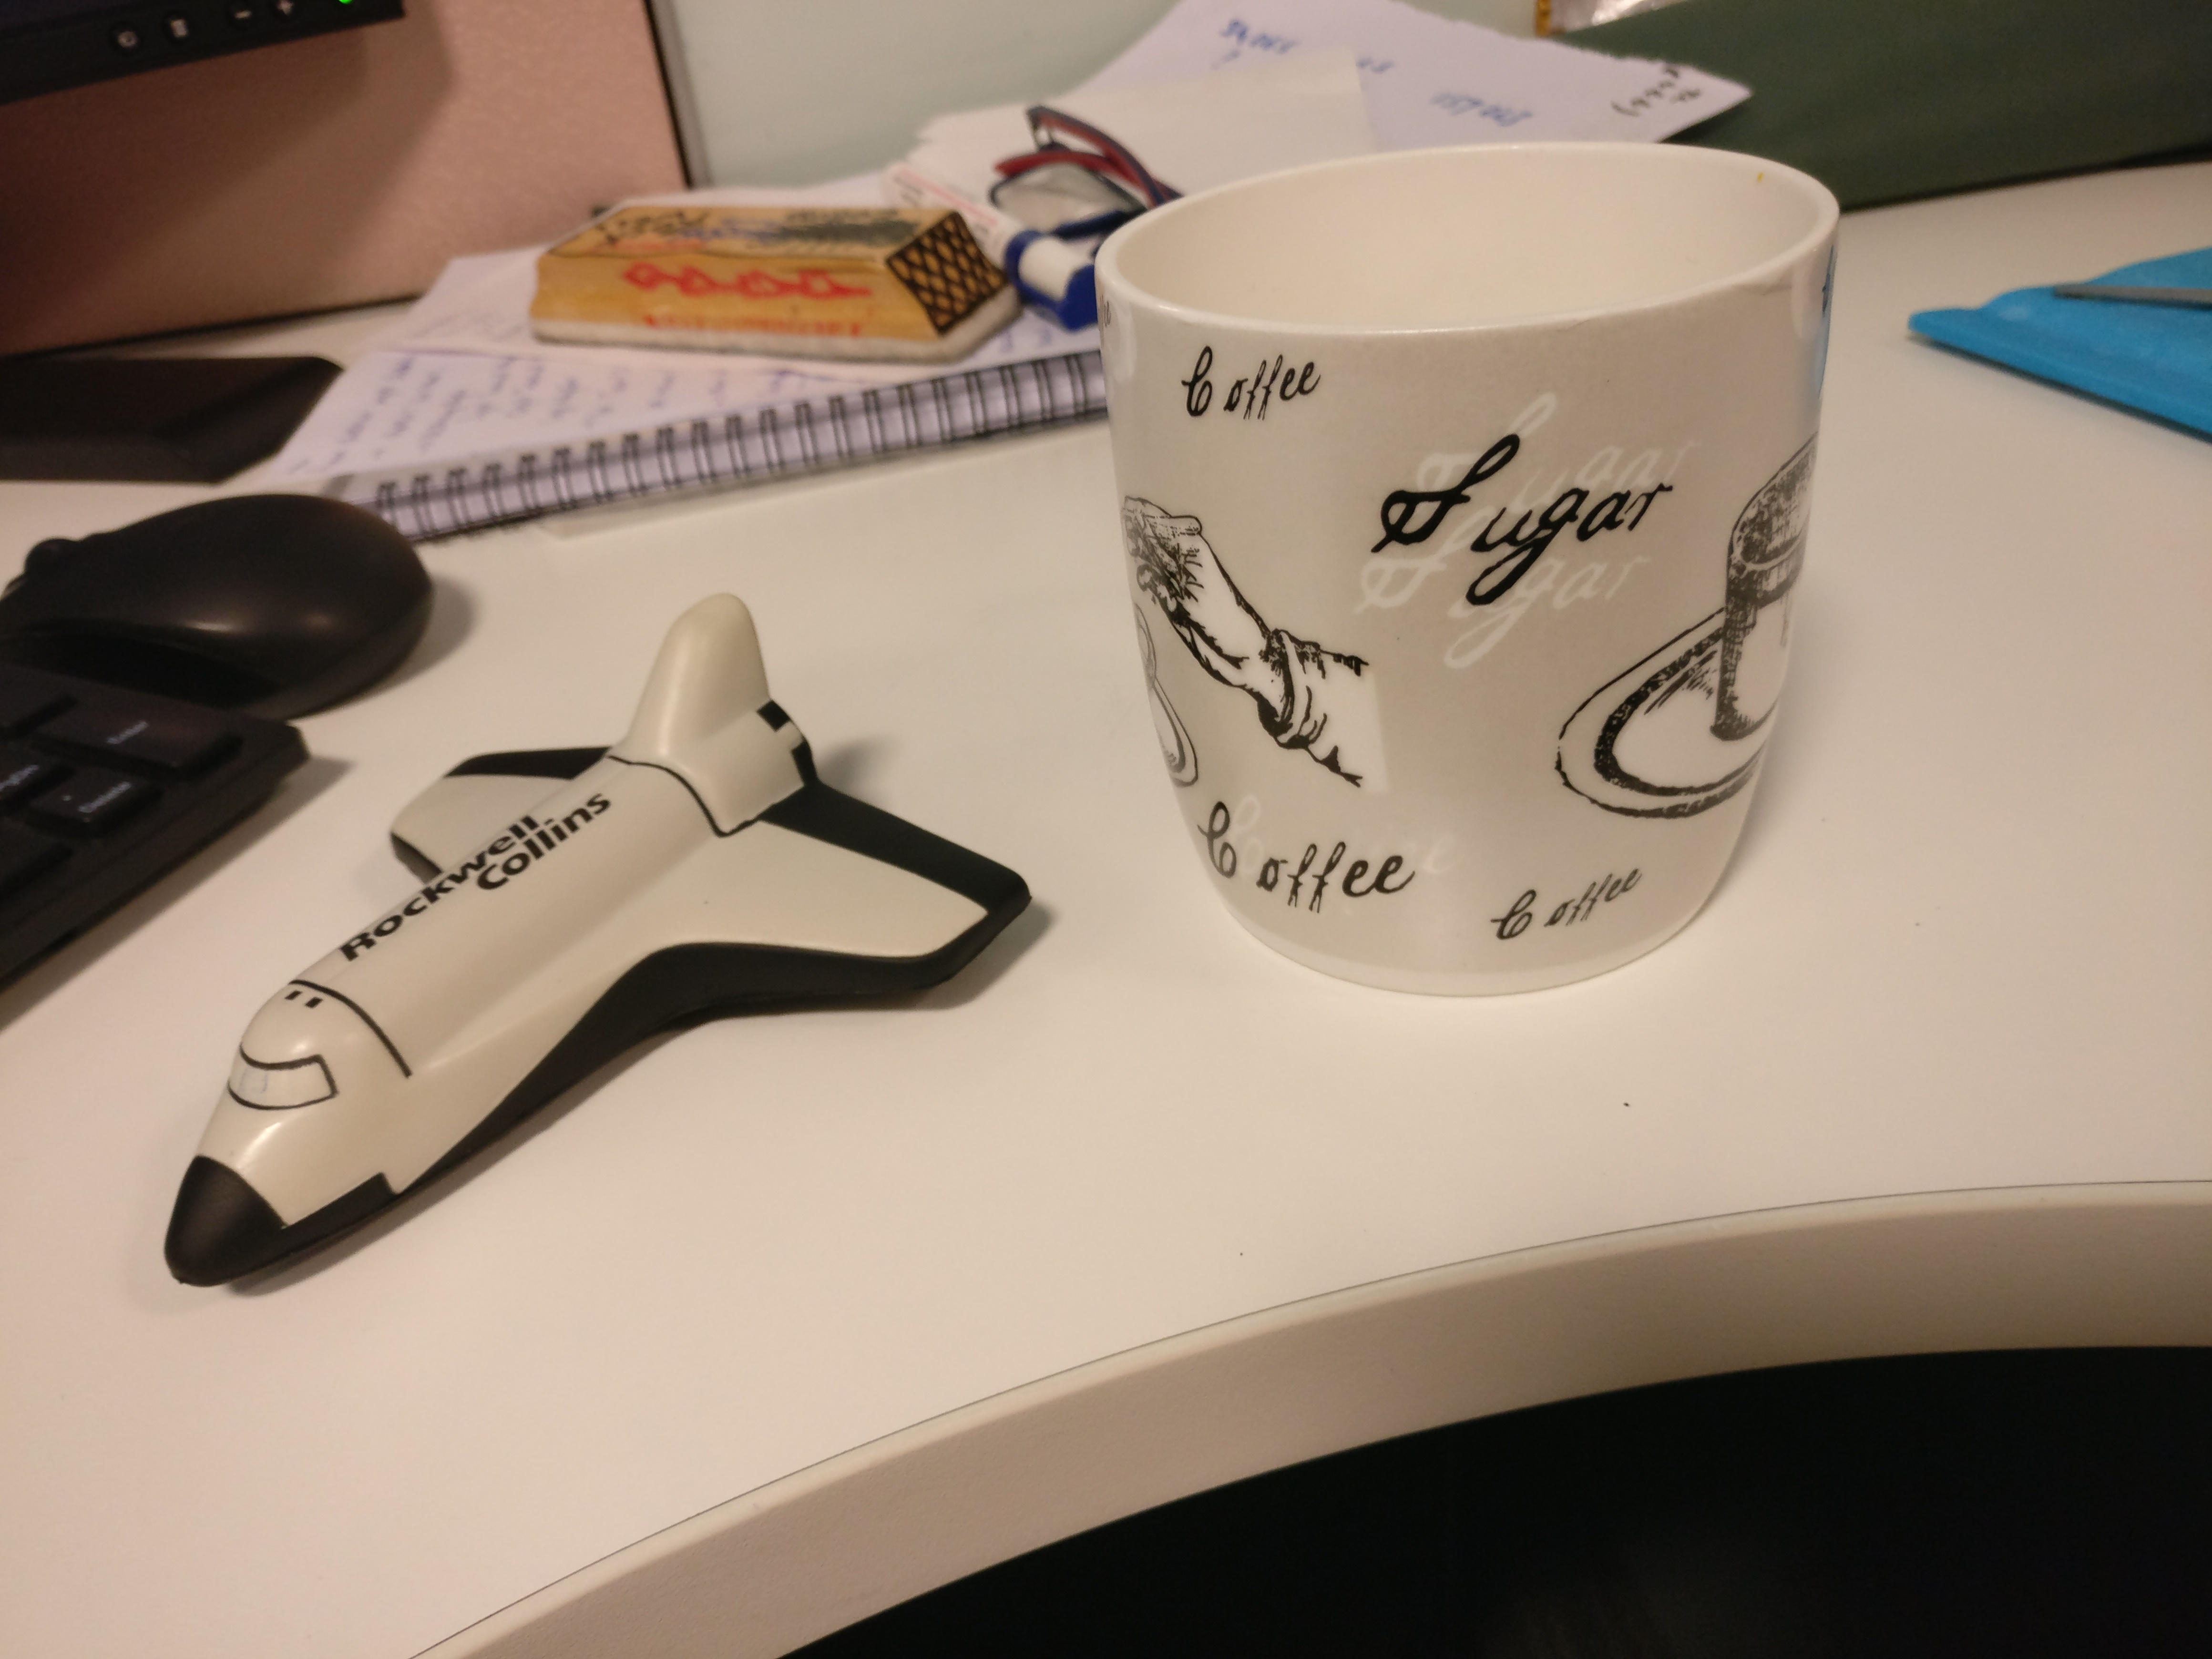aeroplane: (167, 647, 1094, 1378)
cup: (1092, 138, 1965, 1068)
